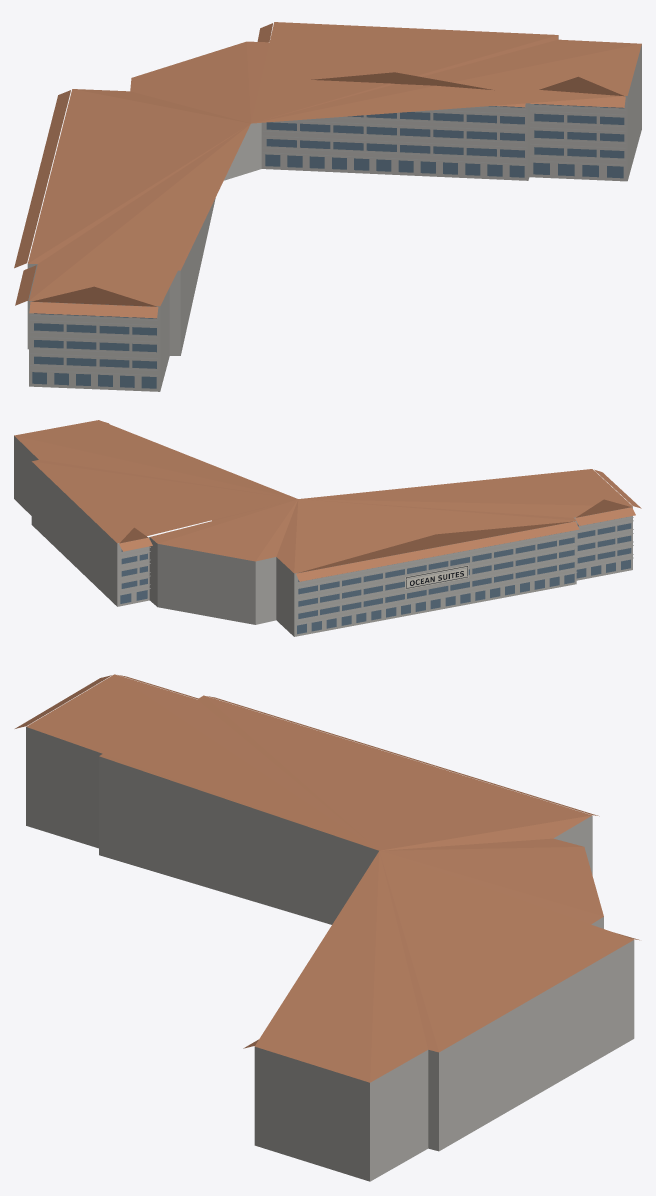
Rendered from renocean.glb.
3 views of the same model, one above another, from view 1: azimuth 30°, elevation 25°; view 2: azimuth 150°, elevation 25°; view 3: azimuth 270°, elevation 25° (orthographic). The views are drawn at different scales.
Visible parts, largest first — view 1: renocean_lod0; view 2: renocean_lod0; view 3: renocean_lod0.
Part boxes in pixels (x1,y1,x2,y2): renocean_lod0: (14, 22, 641, 391); renocean_lod0: (14, 420, 641, 636); renocean_lod0: (15, 674, 639, 1181).
Size of what is drawn, in the model's own units: 145 by 19.55 by 92.9.
Materials: 3 (1 with a texture image).
